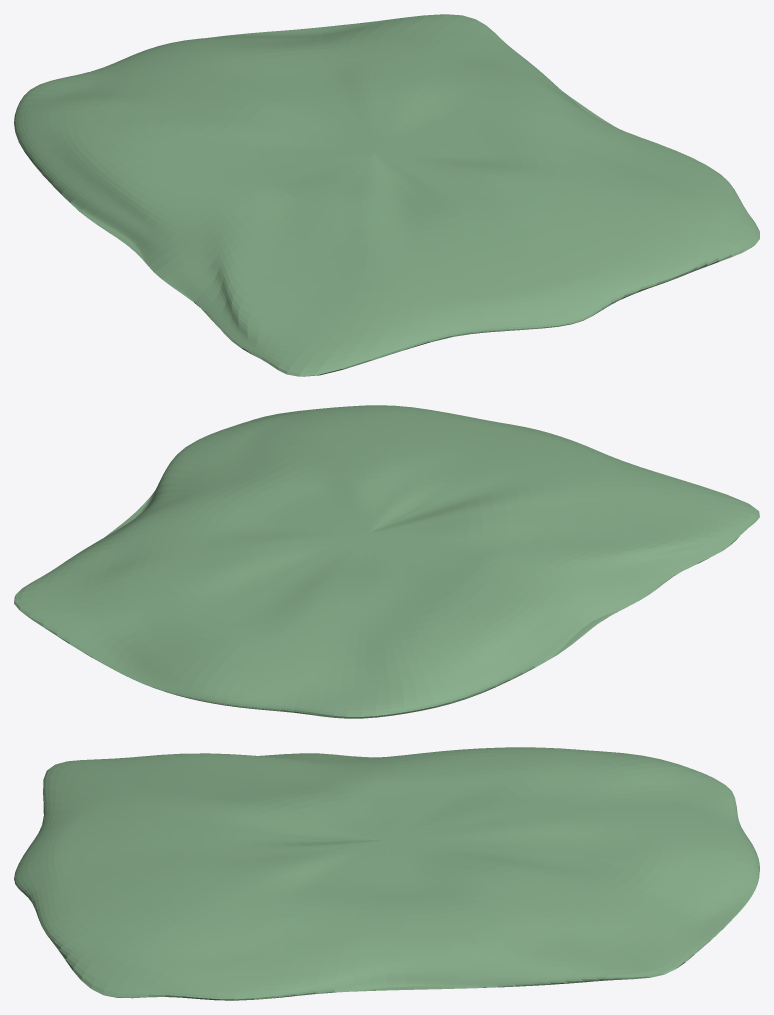
Rendered from kayaspread2.fbx.
3 views of the same model, one above another, from view 1: azimuth 30°, elevation 25°; view 2: azimuth 150°, elevation 25°; view 3: azimuth 270°, elevation 25° (orthographic). The views are drawn at different scales.
Parts seen in each view (by area): view 1: Sphere; view 2: Sphere; view 3: Sphere.
Boxes of the visible parts, <box> form: Sphere: <box>14,14,759,376</box>; Sphere: <box>14,405,759,718</box>; Sphere: <box>14,747,759,1000</box>.
Bounding box in the file's own units: 142 × 11.69 × 178.
